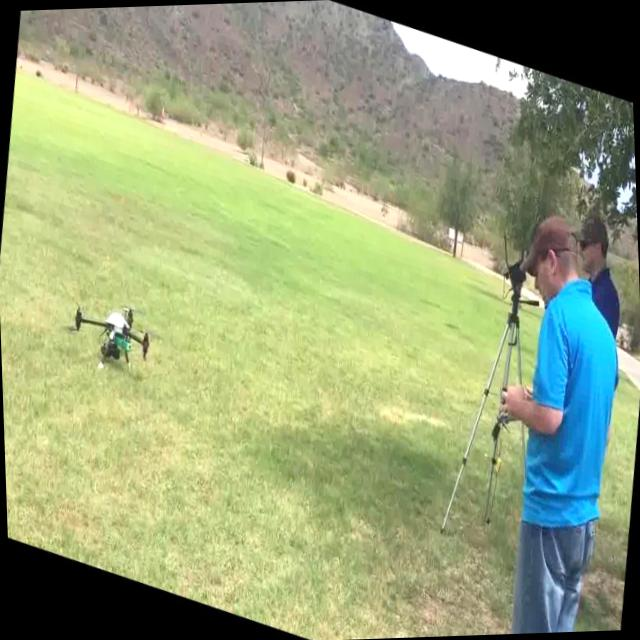drone: (68, 287, 154, 380)
